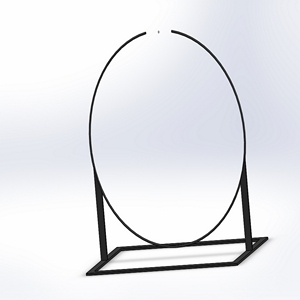circle: (83, 27, 270, 276)
